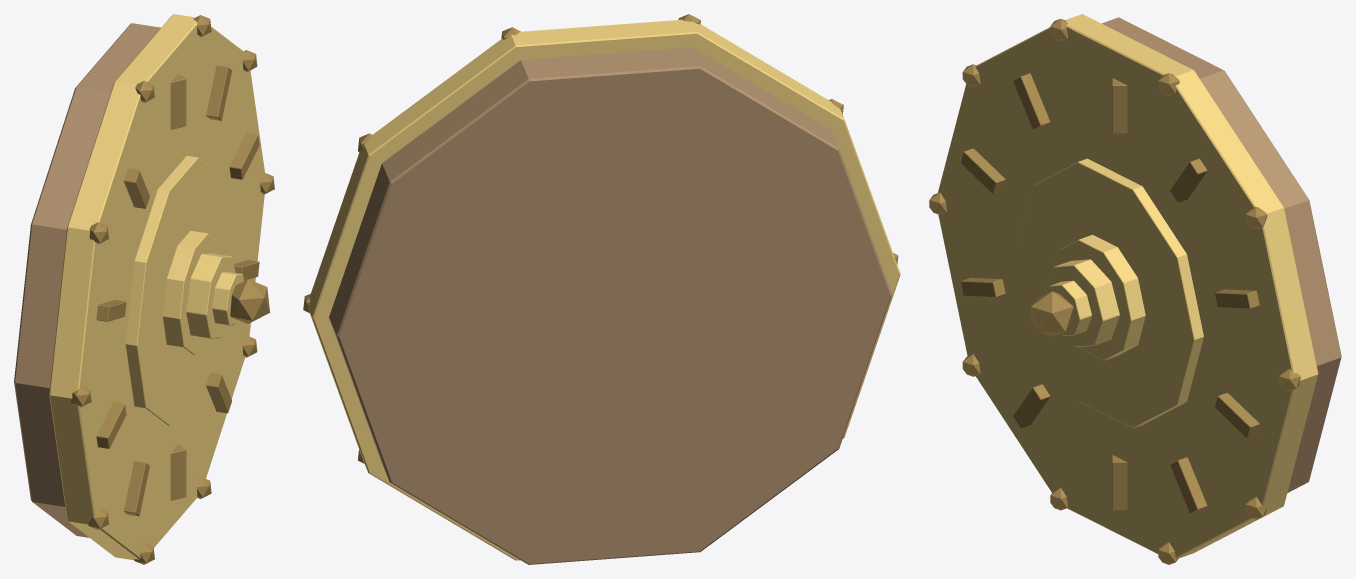
Rendered from shield_laurel.glb.
The picture shows the model from 3 angles, left to right: view 1: azimuth 30°, elevation 25°; view 2: azimuth 150°, elevation 25°; view 3: azimuth 270°, elevation 25°; orthographic projection. The views are drawn at different scales.
Visible parts, largest first — view 1: Shield; view 2: Shield; view 3: Shield.
Boxes of the visible parts, bbox=[...] form: Shield: bbox=[14, 14, 274, 564]; Shield: bbox=[303, 14, 900, 564]; Shield: bbox=[929, 14, 1341, 564].
Bounding box in the file's own units: 0.7458 × 0.8617 × 0.6546.
